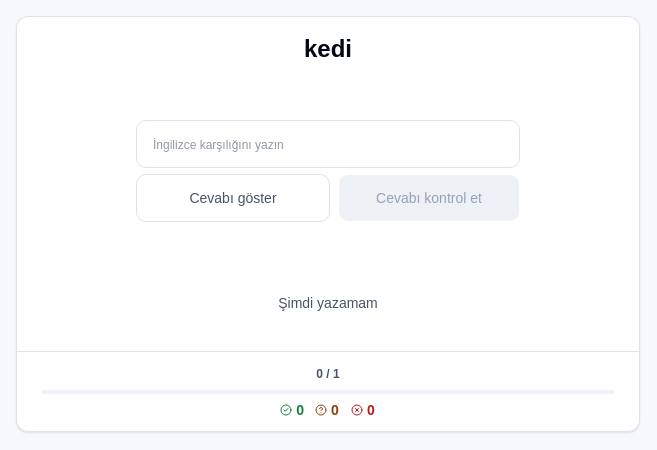
Test: StudySessionPage › submits written answers while keeping correctness server-authoritative
Type "cat" into the field named "İngilizce cevap".
click(328, 144); type("cat")  # box [153,121,503,167]
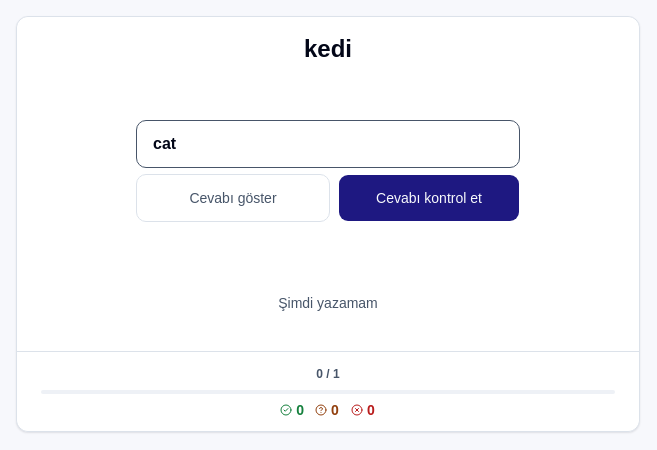
Press Enter
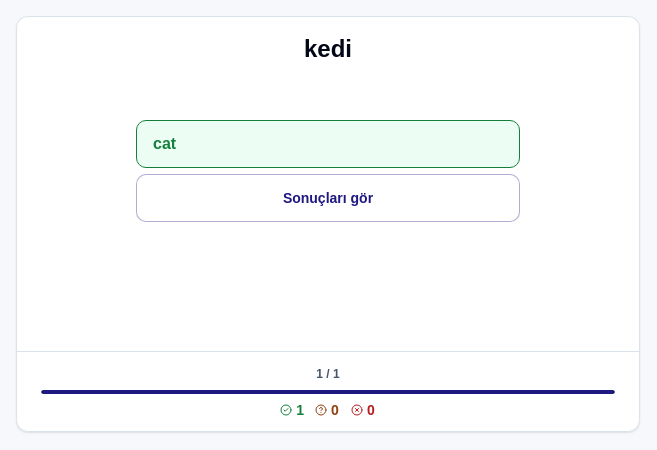
Result: the button "Sonuçları gör" is shown at [136,174,520,222]
